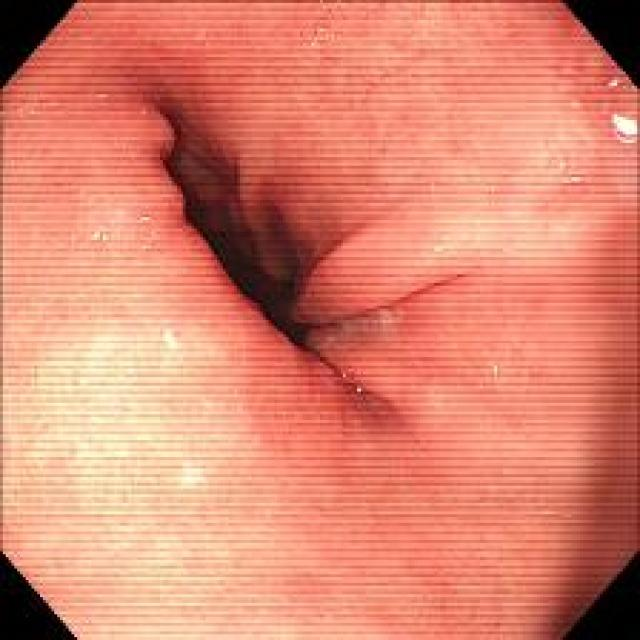color misalignment: (552, 154, 588, 190), (304, 22, 336, 58), (601, 72, 624, 91)
contrast: (176, 150, 329, 346)
saturation: (2, 322, 275, 635)
specularity: (609, 109, 638, 139)
